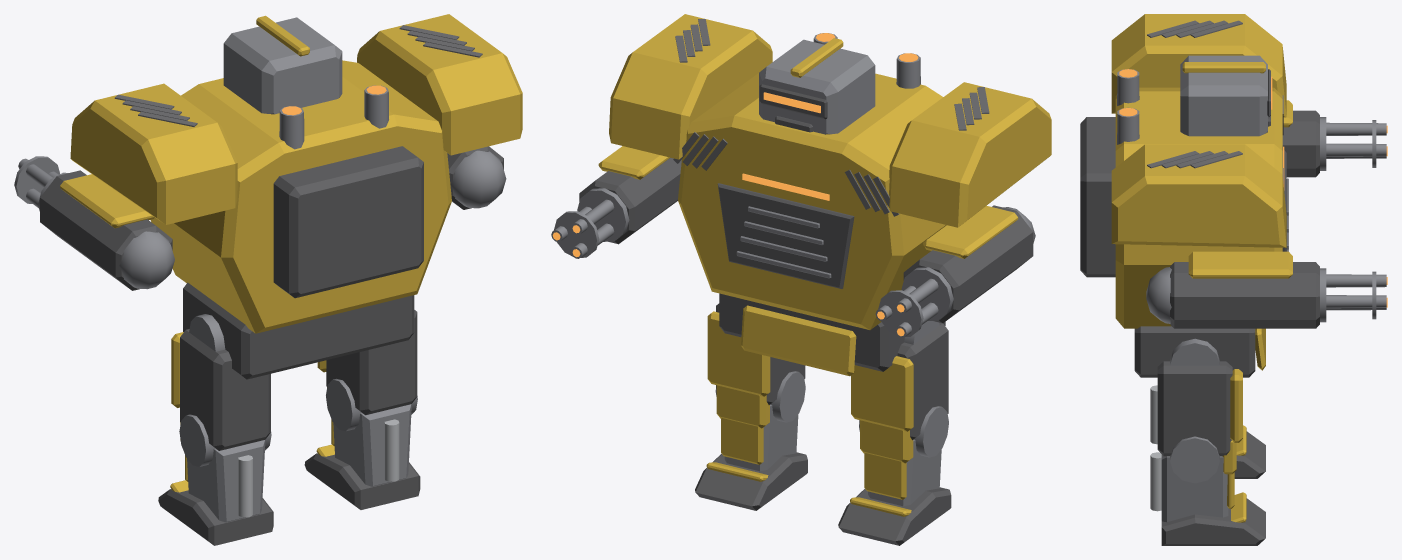
The model's file is brute.glb.
3 renders of one model, left to right at view 1: azimuth 30°, elevation 25°; view 2: azimuth 150°, elevation 25°; view 3: azimuth 270°, elevation 25°, orthographic. The views are drawn at different scales.
Parts seen in each view (by area): view 1: torso, shoulder_l, shoulder_r, hips, cannon_l, thigh_l, head, thigh_r, shin_r, shin_l, foot_r, foot_l (+2 smaller); view 2: torso, shoulder_l, shoulder_r, thigh_l, head, hips, cannon_l, thigh_r, cannon_r, foot_l, foot_r, barrels_l (+3 smaller); view 3: torso, shoulder_r, cannon_r, thigh_r, shoulder_l, head, hips, shin_r, foot_r, cannon_l, barrels_r, barrels_l (+2 smaller).
Boxes of the visible parts, left/top/right/bottom form: torso: left=150, top=60, right=451, bottom=333; shoulder_l: left=70, top=83, right=237, bottom=224; shoulder_r: left=357, top=14, right=522, bottom=155; hips: left=183, top=282, right=414, bottom=379; cannon_l: left=40, top=170, right=174, bottom=290; thigh_l: left=171, top=329, right=271, bottom=466; head: left=223, top=15, right=342, bottom=114; thigh_r: left=317, top=310, right=417, bottom=431; shin_r: left=331, top=404, right=411, bottom=486; shin_l: left=185, top=440, right=265, bottom=522; foot_r: left=304, top=444, right=420, bottom=509; foot_l: left=158, top=480, right=273, bottom=545; torso: left=673, top=33, right=946, bottom=329; shoulder_l: left=889, top=82, right=1051, bottom=227; shoulder_r: left=609, top=14, right=772, bottom=159; thigh_l: left=851, top=322, right=948, bottom=463; head: left=759, top=38, right=875, bottom=134; hips: left=719, top=293, right=945, bottom=376; cannon_l: left=903, top=205, right=1035, bottom=323; thigh_r: left=707, top=303, right=805, bottom=428; cannon_r: left=579, top=146, right=681, bottom=244; foot_l: left=838, top=487, right=951, bottom=545; foot_r: left=695, top=452, right=807, bottom=510; barrels_l: left=875, top=267, right=953, bottom=337; torso: left=1080, top=69, right=1288, bottom=328; shoulder_r: left=1111, top=144, right=1286, bottom=247; cannon_r: left=1146, top=251, right=1319, bottom=328; thigh_r: left=1157, top=361, right=1242, bottom=483; shoulder_l: left=1111, top=14, right=1286, bottom=117; head: left=1180, top=55, right=1272, bottom=136; hips: left=1134, top=326, right=1265, bottom=377; shin_r: left=1150, top=452, right=1234, bottom=522; foot_r: left=1161, top=492, right=1265, bottom=545; cannon_l: left=1282, top=100, right=1319, bottom=177; barrels_r: left=1320, top=268, right=1387, bottom=322; barrels_l: left=1320, top=117, right=1387, bottom=170.
Bounding box in the file's own units: 2.02 × 2.31 × 1.47.
